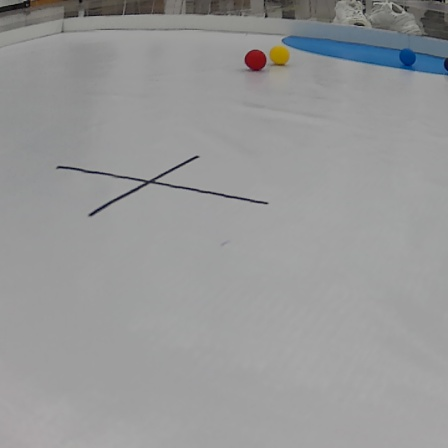blue: (399, 50, 419, 67)
blue_base: (282, 32, 448, 76)
red: (244, 47, 265, 72)
yellow: (270, 44, 295, 68)
